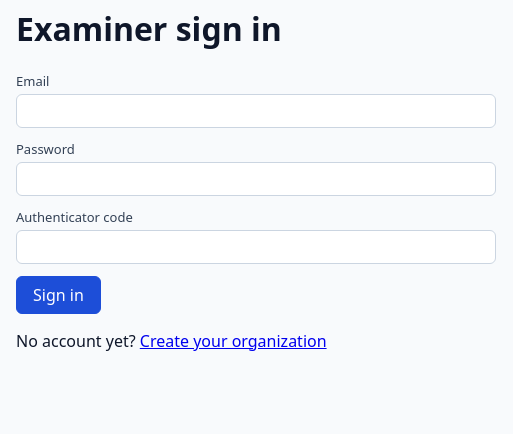
Test: LoginPage › surfaces a rejected credential or TOTP code
Type "a@example.com" into the field labelled "Email" at (256, 111), box [16, 94, 496, 128]
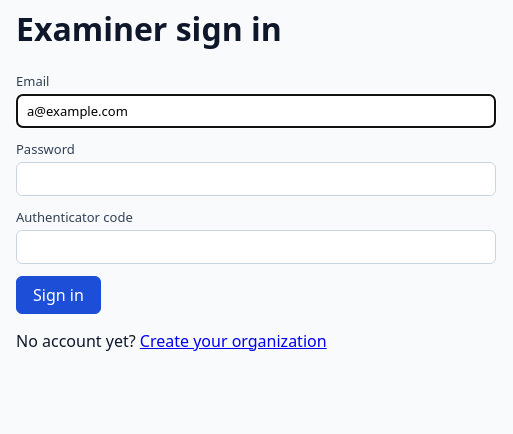
Type "hunter2hunter2" into the password field labelled "Password" at (256, 179), box [16, 162, 496, 196]
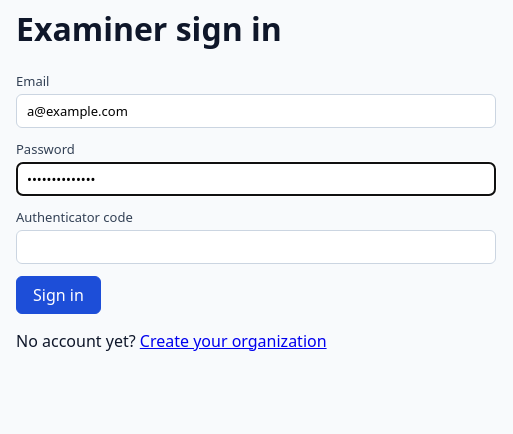
Type "123456" into the field labelled "Authenticator code" at (256, 247), box [16, 230, 496, 264]
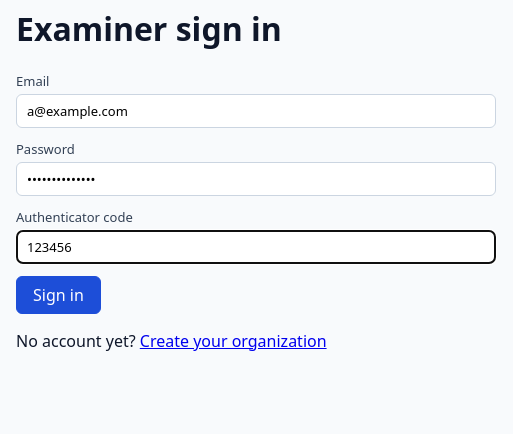
Click the button "Sign in" at (58, 295), box [16, 276, 101, 314]
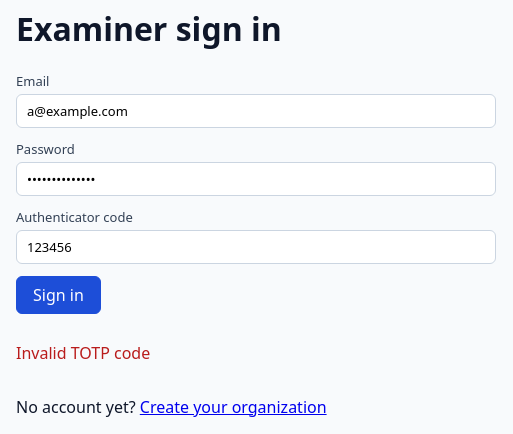
Check: the message reads "Invalid TOTP code", box [16, 342, 150, 364]
